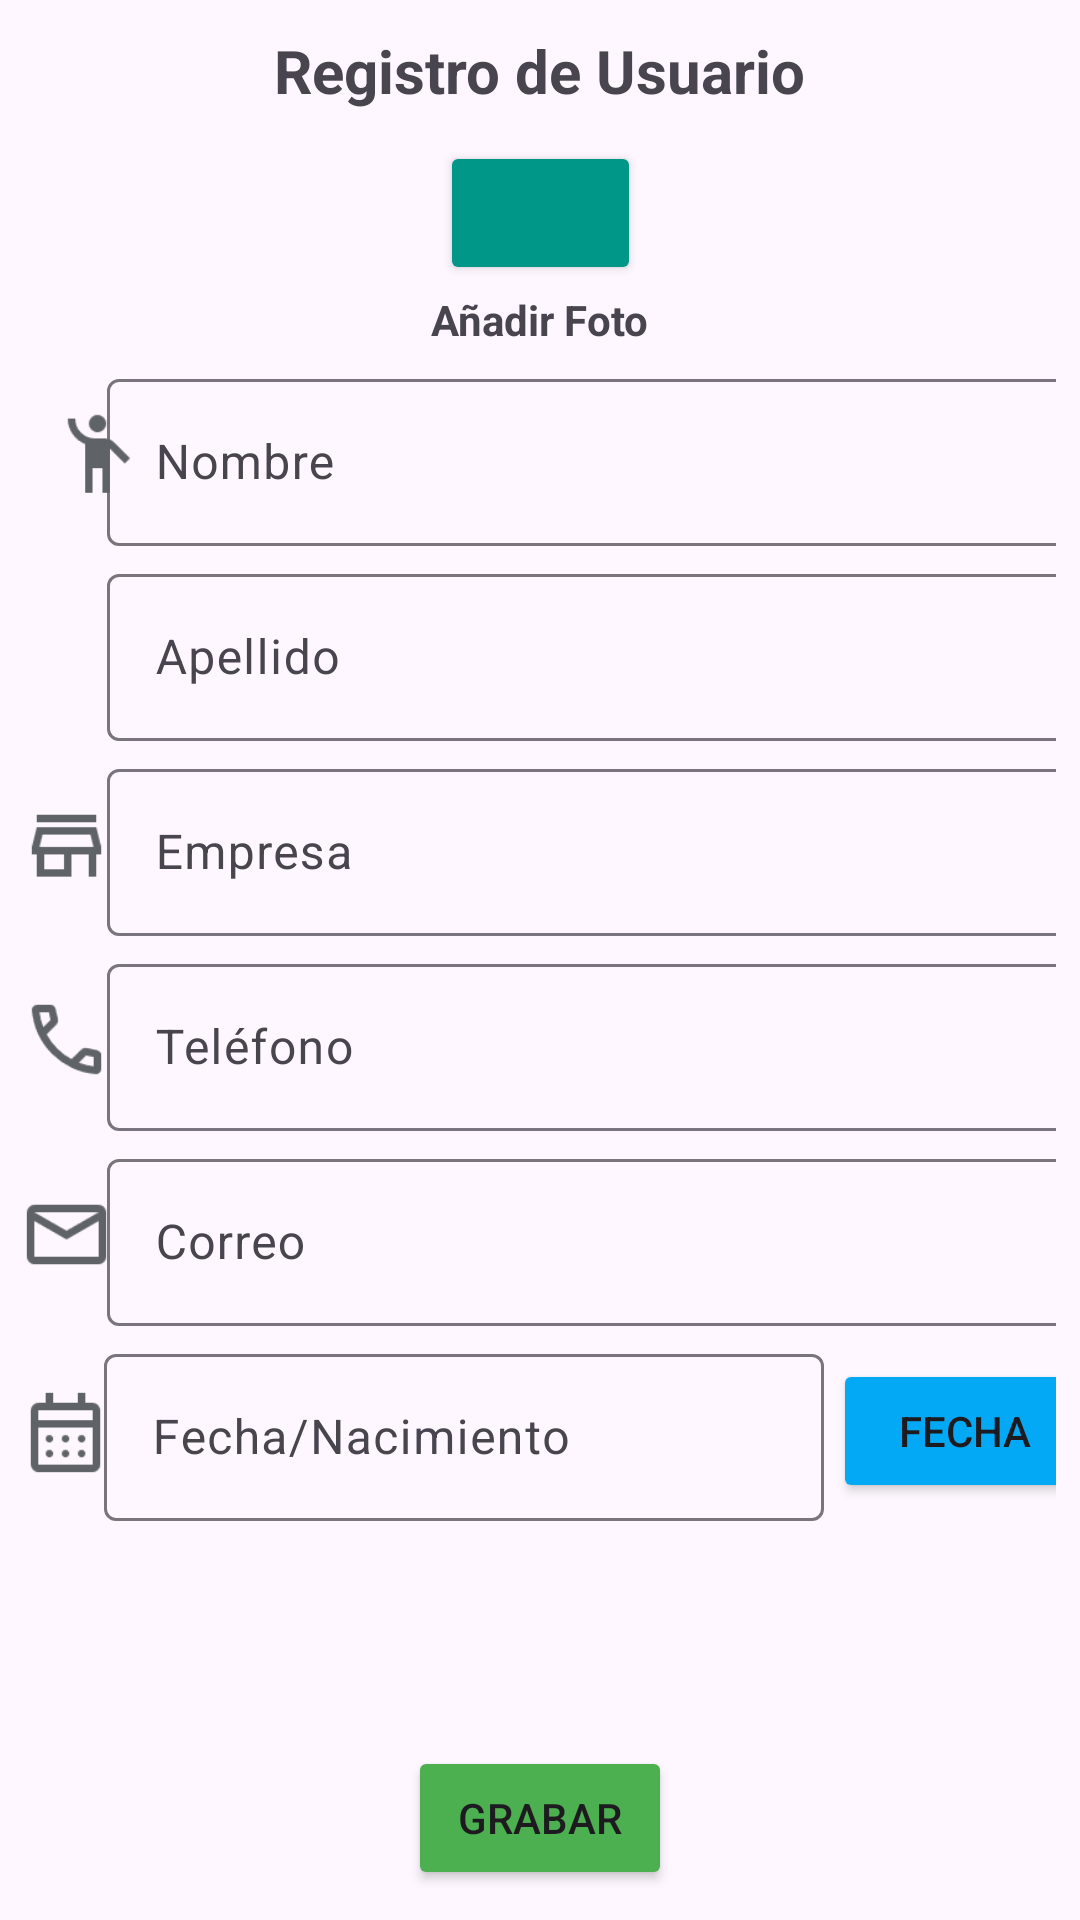

Icon bounding boxes for this 1080 × 1920 phone screenshot, format (x1, y1, x2, y2):
calendario: (30, 1392, 101, 1473)
email: (26, 1173, 110, 1296)
person: (67, 393, 130, 516)
telefono: (31, 1004, 102, 1075)
